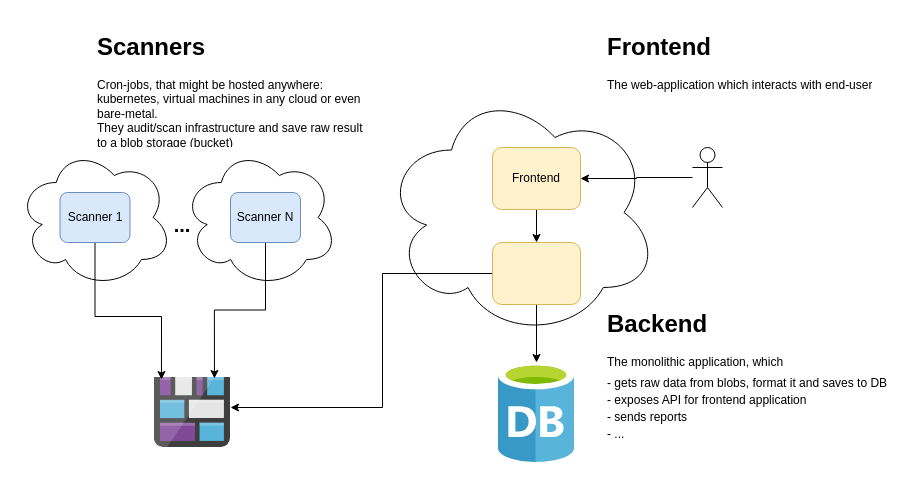
This 920x479 diagram has some shape labels left out. Each missing label, with the centre of its shape:
"Actor" belongs at (707,177).
"Backend" belongs at (536,273).
